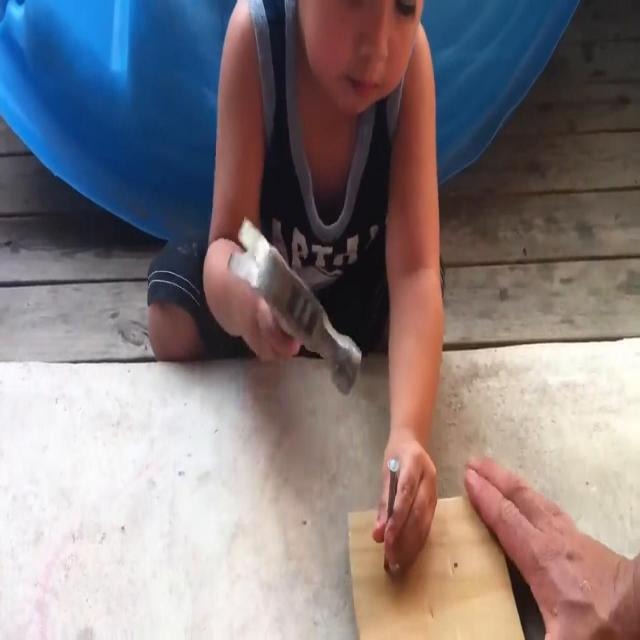hammer: (226, 215, 362, 398)
